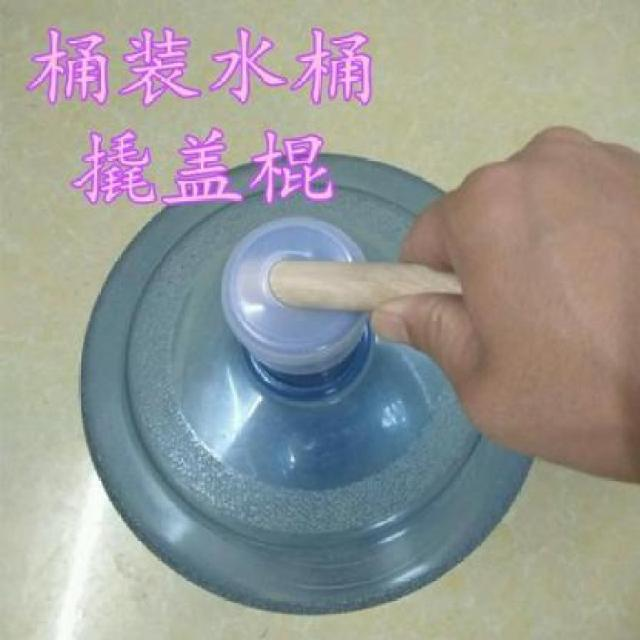coolerbottle: (70, 140, 542, 620)
